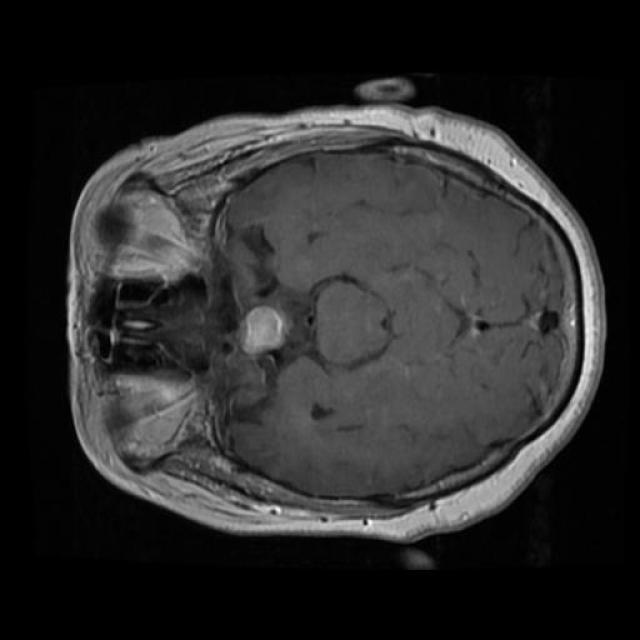Pituitary: (241, 305, 288, 354)
